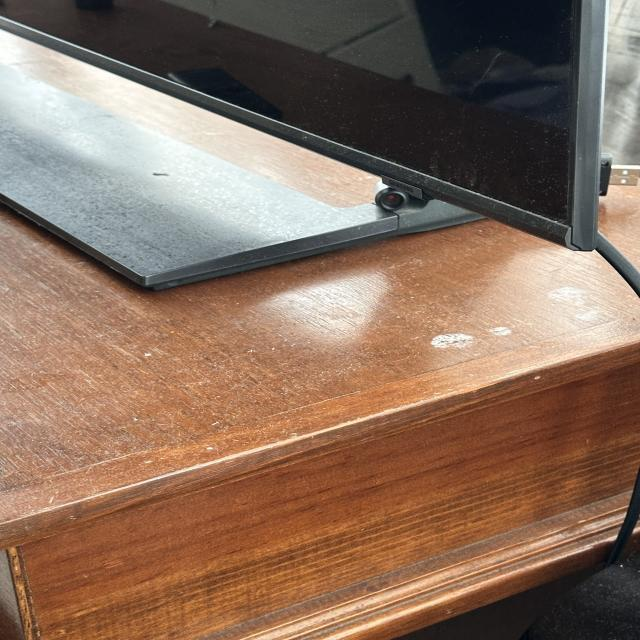hidden camera: (377, 190, 410, 212)
